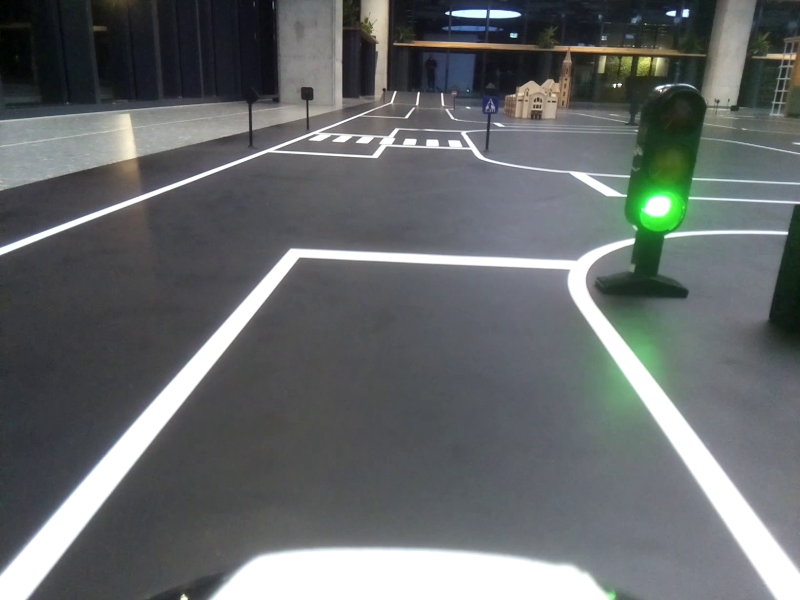traffic_green: (631, 93, 690, 236)
